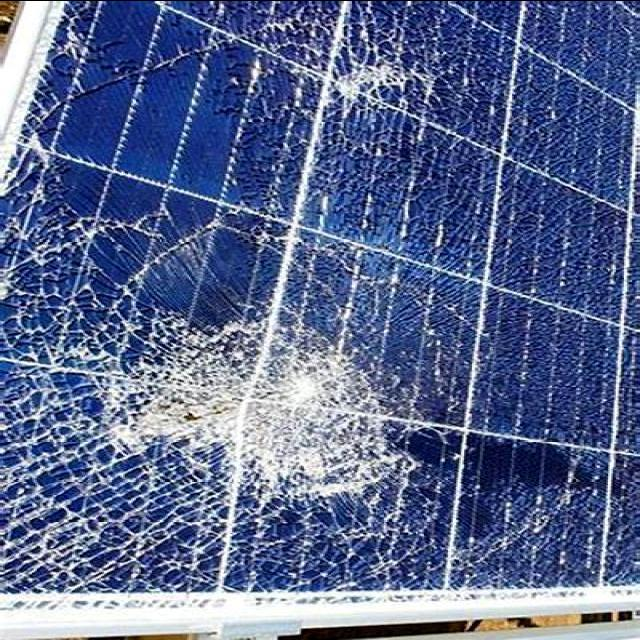cracked: (2, 1, 638, 610)
